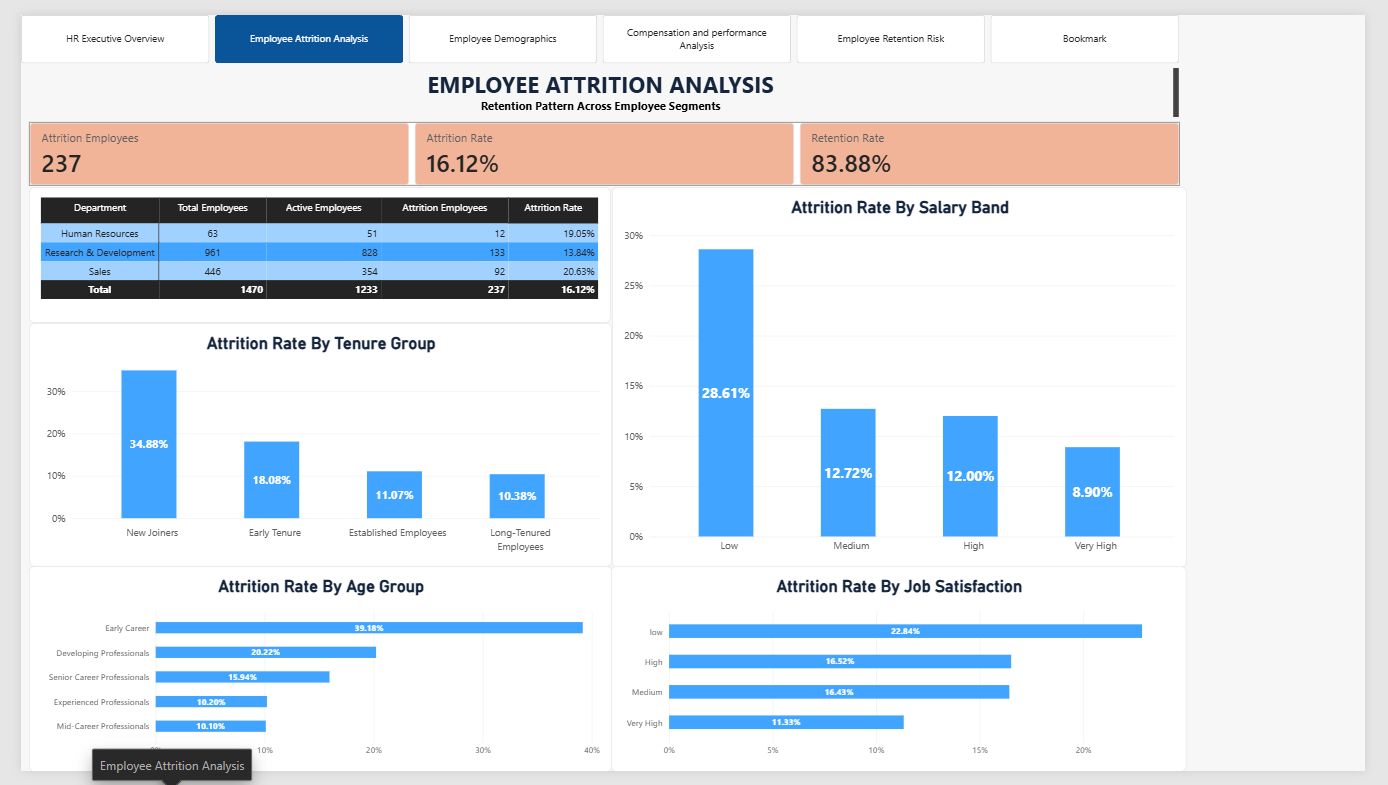

What the dashboard file says about the page in this screenshot:
{"tool":"powerbi","page":{"name":"Employee Attrition Analysis","canvas":[1920,1080],"ordinal":1},"visuals":[{"type":"textbox","box":[9.5,76.1,1644.3,75.7],"z":0},{"type":"cardVisual","fields":{"Data":["_Measures.Attrition Employees","_Measures.Attrition Rate","_Measures.Retention Rate"]},"box":[10.9,152.2,1644.3,91.4],"z":1000},{"type":"clusteredBarChart","title":"Attrition Rate By Age Group","fields":{"Category":["Dim_Demographics.Age Group"],"Y":["_Measures.Attrition Rate"]},"box":[11,787.4,833,293.5],"z":2000},{"type":"clusteredColumnChart","title":"Attrition Rate By Salary Band","fields":{"Category":["Fact_Employee.Salary Band"],"Y":["_Measures.Attrition Rate"]},"box":[844.3,245.7,821.4,544.3],"z":3000},{"type":"clusteredColumnChart","title":"Attrition Rate By Tenure Group","fields":{"Category":["Fact_Employee.Tenure Group"],"Y":["_Measures.Attrition Rate"]},"box":[10.9,440.3,833,347.9],"z":4000},{"type":"clusteredBarChart","title":"Attrition Rate By Job Satisfaction","fields":{"Category":["Fact_Employee.Job Satisfaction Scale"],"Y":["_Measures.Attrition Rate"]},"box":[842.5,786.8,822.1,293.5],"z":5000},{"type":"pivotTable","fields":{"Rows":["Dim_Department.Department"],"Values":["_Measures.Total Employees","_Measures.Active Employees","_Measures.Attrition Employees","_Measures.Attrition Rate"]},"box":[11.4,245.7,831.4,194.3],"z":6000},{"type":"pageNavigator","box":[0,0,1657.7,69.3],"z":9001}]}

Visuals, with their boxes on the page's 1920x1080 design canvas (x1, y1, x2, y2). These are canvas units, not pixel positions in the 1388x785 screenshot, which may show the page scaled, cropped or inside an application window:
textbox: crop(10, 76, 1654, 152)
cardVisual - _Measures.Attrition Employees x _Measures.Attrition Rate: crop(11, 152, 1655, 244)
"Attrition Rate By Age Group" clusteredBarChart: crop(11, 787, 844, 1081)
"Attrition Rate By Salary Band" clusteredColumnChart: crop(844, 246, 1666, 790)
"Attrition Rate By Tenure Group" clusteredColumnChart: crop(11, 440, 844, 788)
"Attrition Rate By Job Satisfaction" clusteredBarChart: crop(842, 787, 1665, 1080)
pivotTable - Dim_Department.Department x _Measures.Total Employees: crop(11, 246, 843, 440)
pageNavigator: crop(0, 0, 1658, 69)
